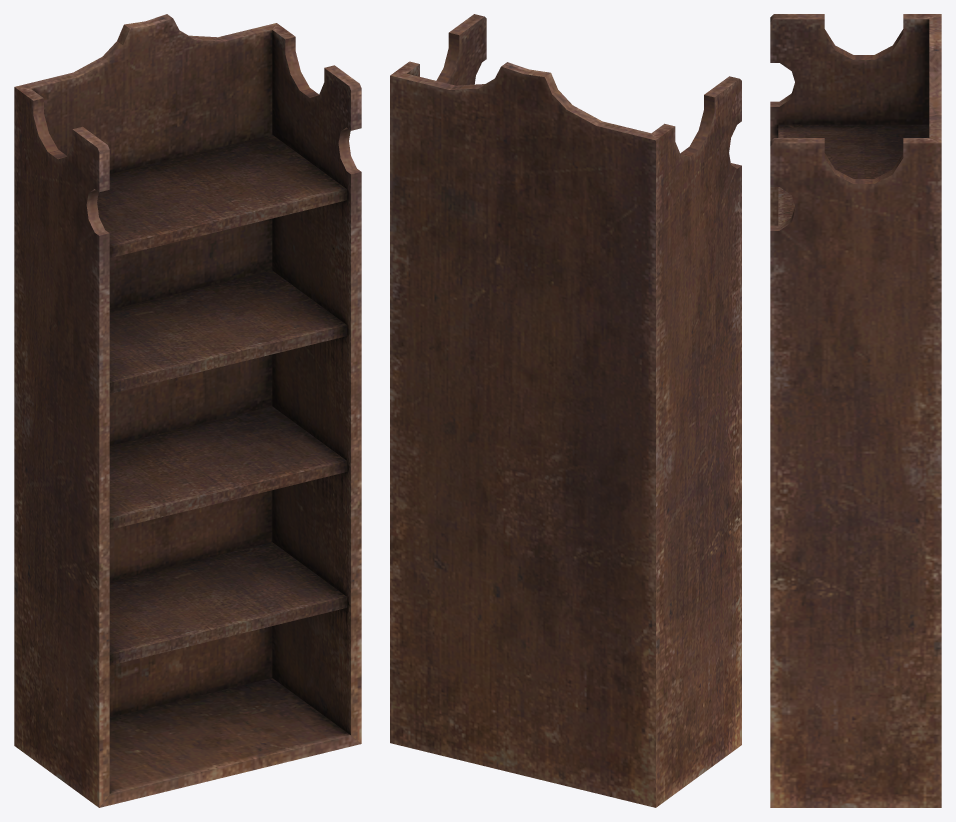
The model's file is shelf_thin.dae.
3 renders of one model, left to right at view 1: azimuth 30°, elevation 25°; view 2: azimuth 150°, elevation 25°; view 3: azimuth 270°, elevation 25°, orthographic.
Parts seen in each view (by area): view 1: shelf_thin; view 2: shelf_thin; view 3: shelf_thin.
Part boxes in pixels (left/top/right/bottom): shelf_thin: left=14, top=14, right=361, bottom=807; shelf_thin: left=390, top=14, right=741, bottom=807; shelf_thin: left=770, top=14, right=941, bottom=807.
Bounding box in the file's own units: 1.25 × 3.16 × 0.7.
